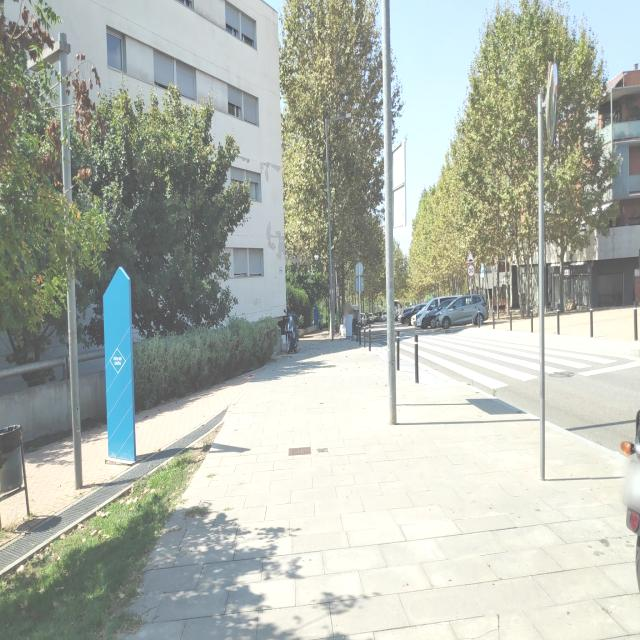car: (435, 292, 488, 331), (414, 295, 460, 328), (399, 304, 422, 325)
